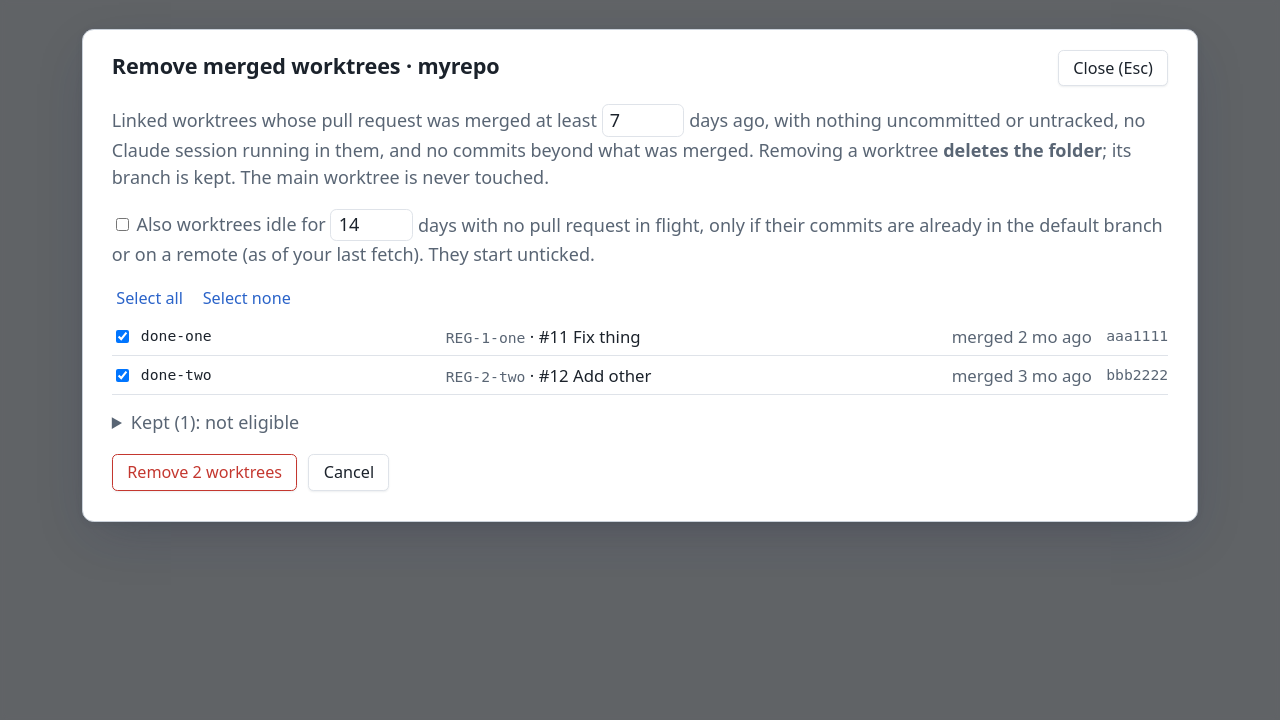
Test: WorktreeCleanupModal › updates the count and disables removal at zero
Click the checkbox labelled "done-one".
click(122, 336)  # box [116,330,129,343]
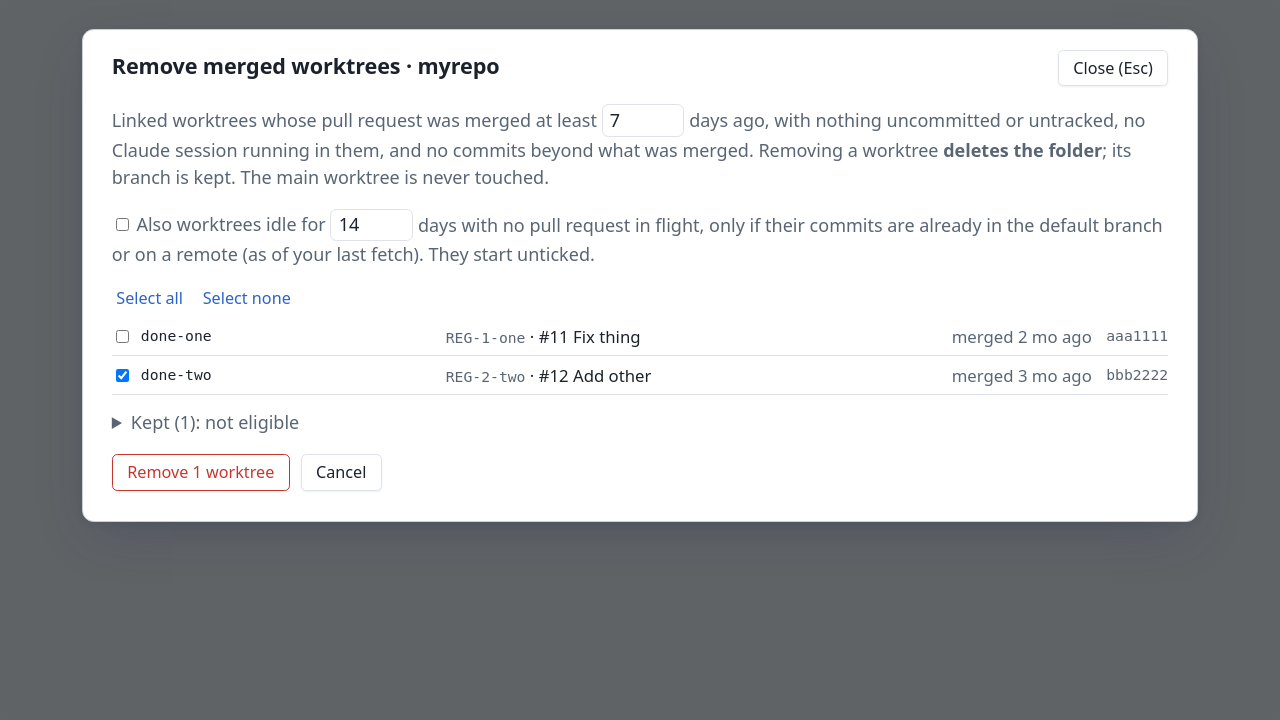
Expected: the text "worktrees" is not shown
Expected: the button "Remove 1 worktree" is shown, [112,454,290,491]
Click the checkbox labelled "done-two".
click(122, 375)  # box [116,369,129,382]
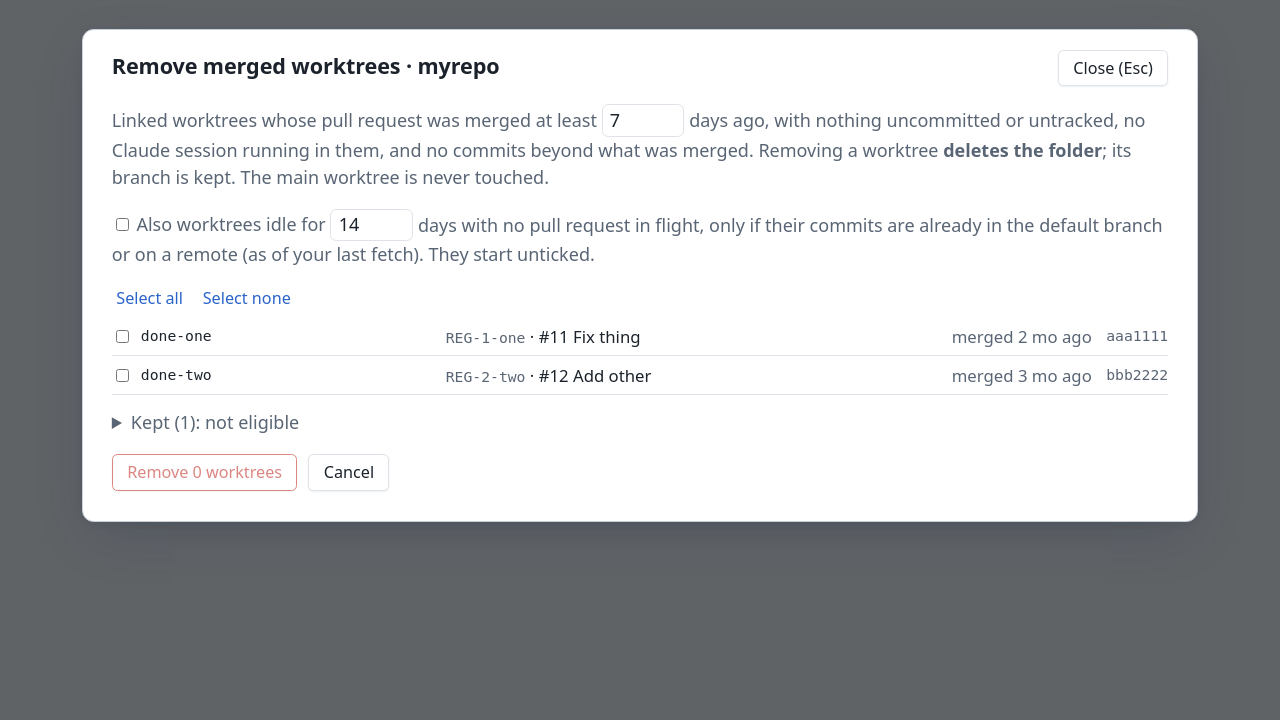
Expected: the button "Remove 0 worktrees" is disabled, [112,454,298,491]
Click the button "Select all".
click(150, 298)  # box [112,286,187,310]
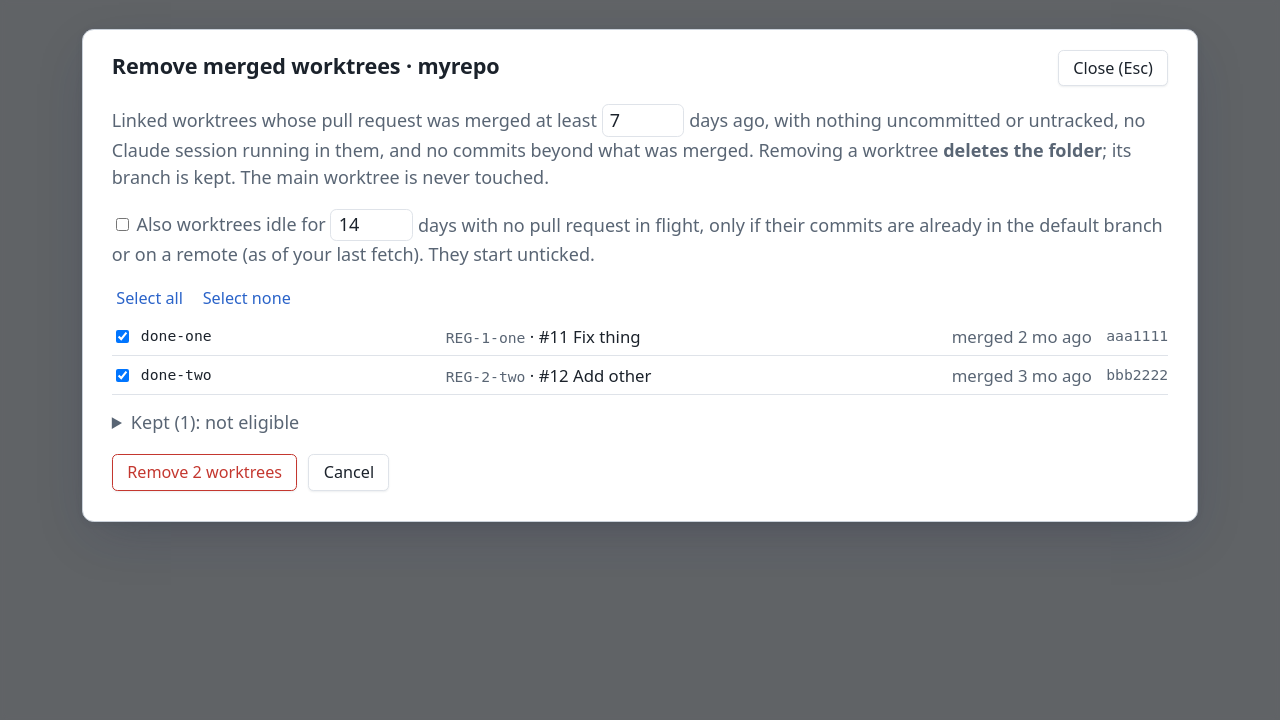
Expected: the button "Remove 2 worktrees" is shown, [112,454,298,491]
Click the button "Select none".
click(247, 298)  # box [198,286,295,310]
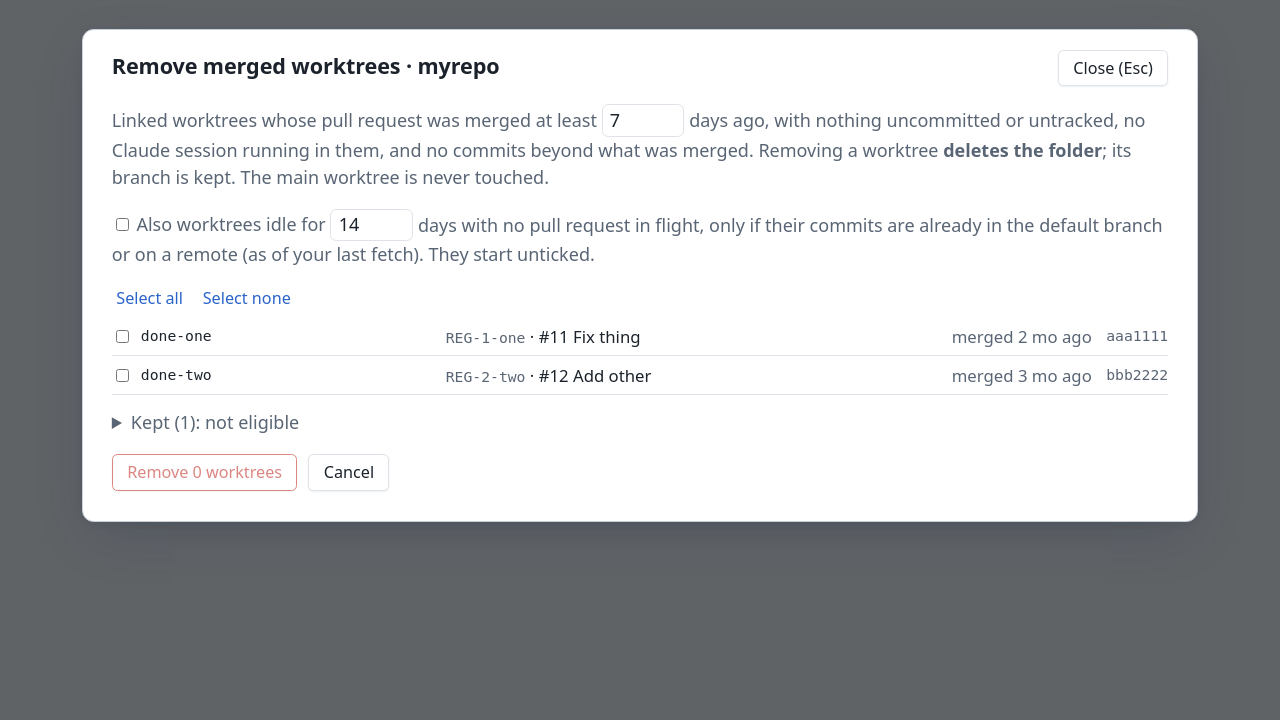
Expected: the button "Remove 0 worktrees" is disabled, [112,454,298,491]
